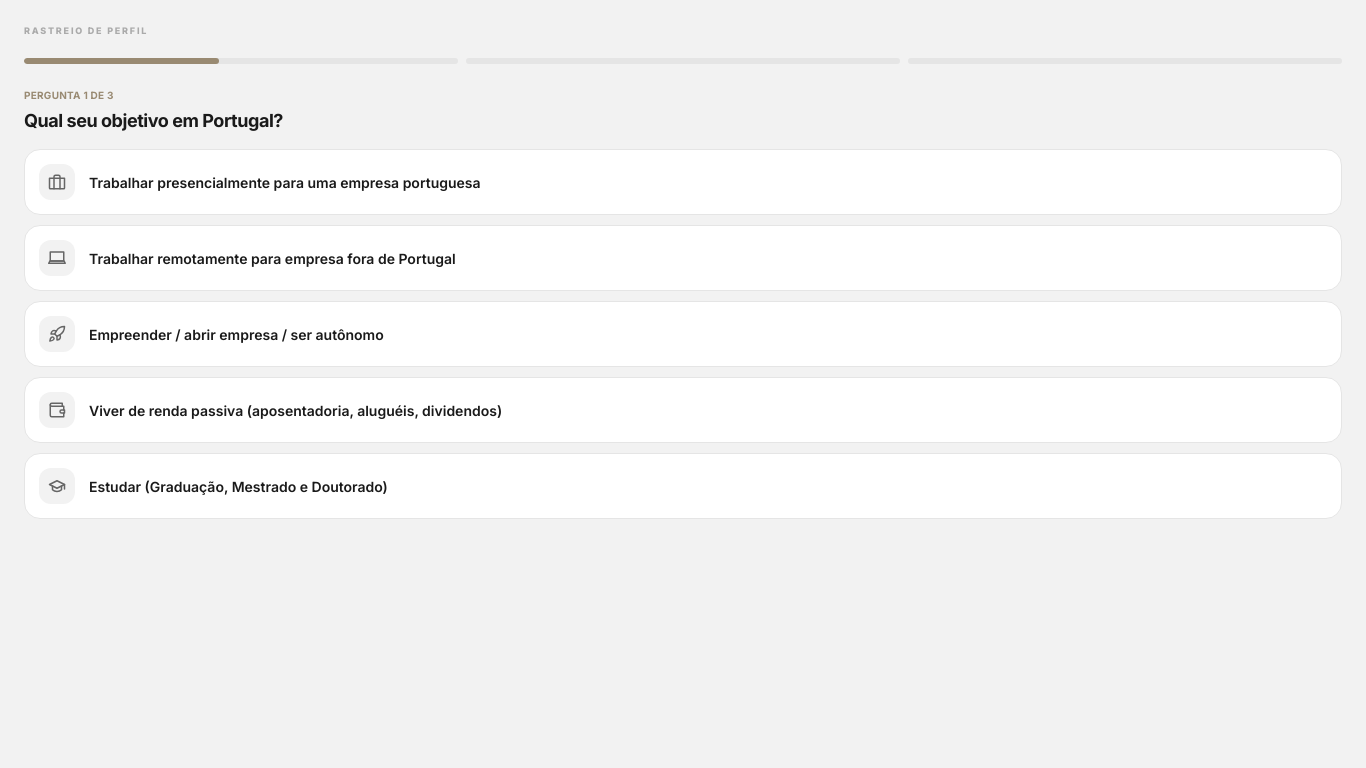
it: ScreeningPanel › auto-advances to the next question after selecting an option
This screenshot has width=1366, height=768.
Click the button "Trabalhar remotamente para empresa fora de Portugal": (57, 258) [24,225,1342,291]
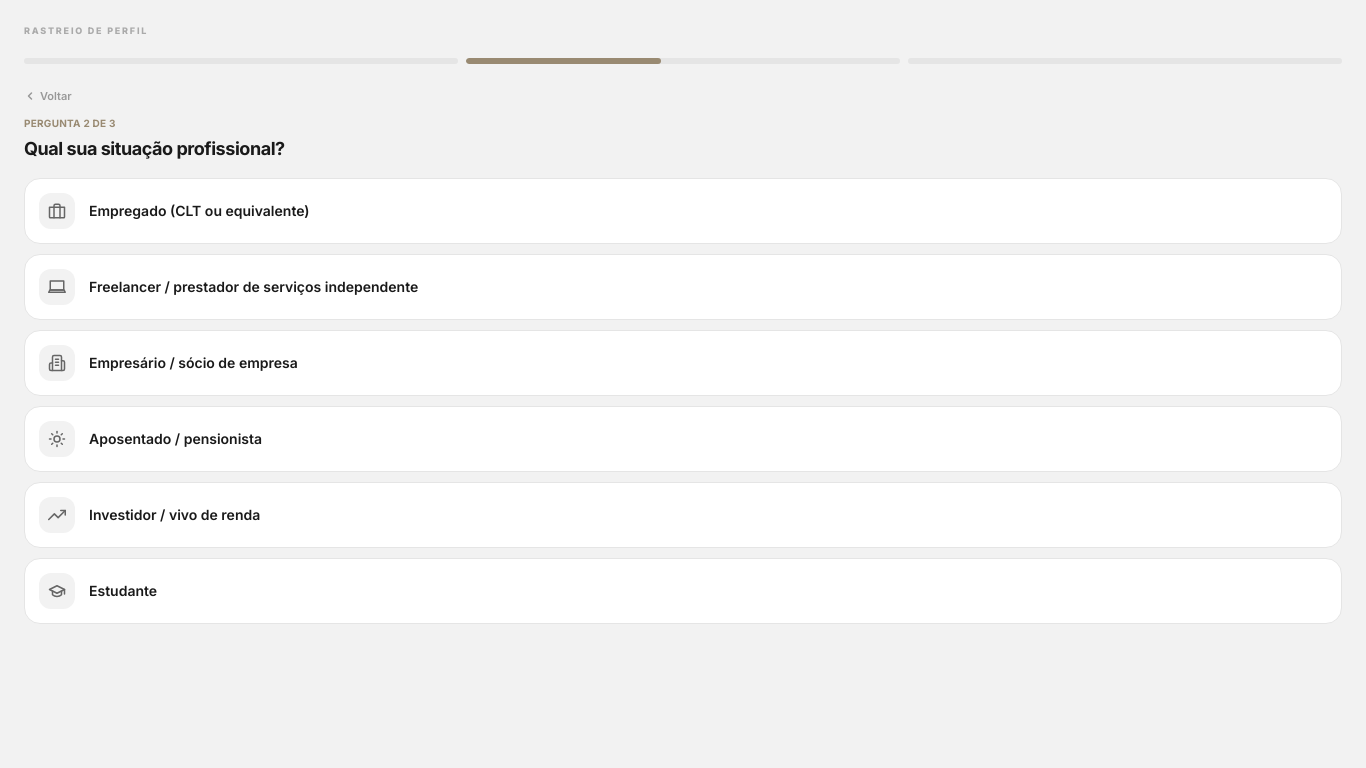
Now the text "Pergunta 2 de 3" is shown, box [24,117,116,129]
